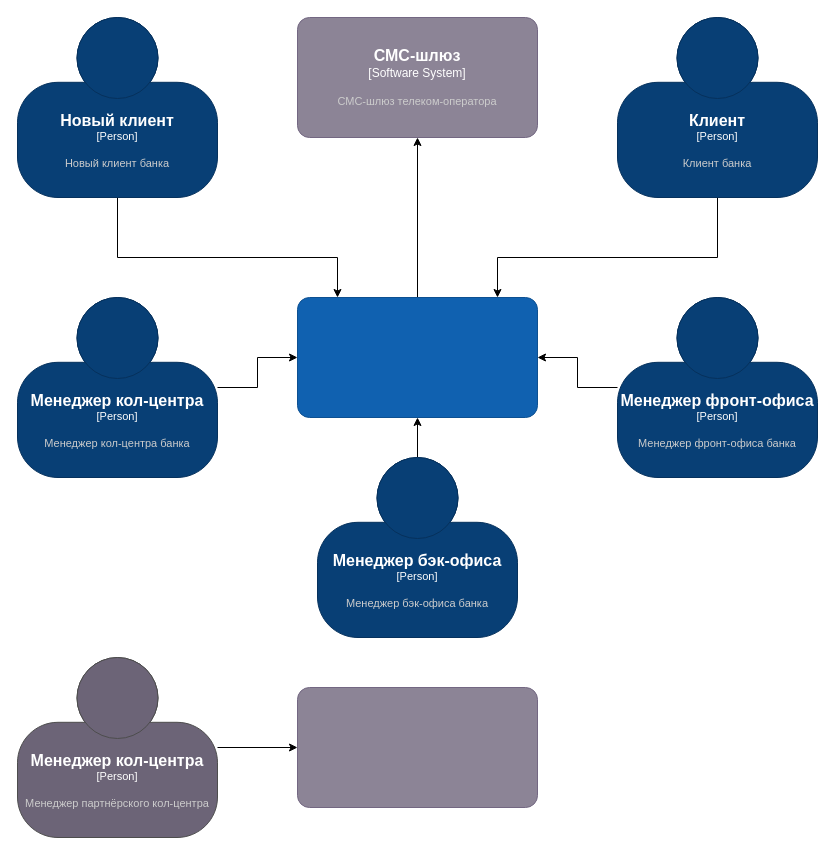
This 835x855 diagram has some shape labels left out. The centre of each missing label's shape, as x and y in pixels:
Банк "Стандарт" [Software System] Собственные системы банка: (x=417, y=357)
Система кол-центра [Software System] Система кол-центра подрядчика: (x=417, y=747)
